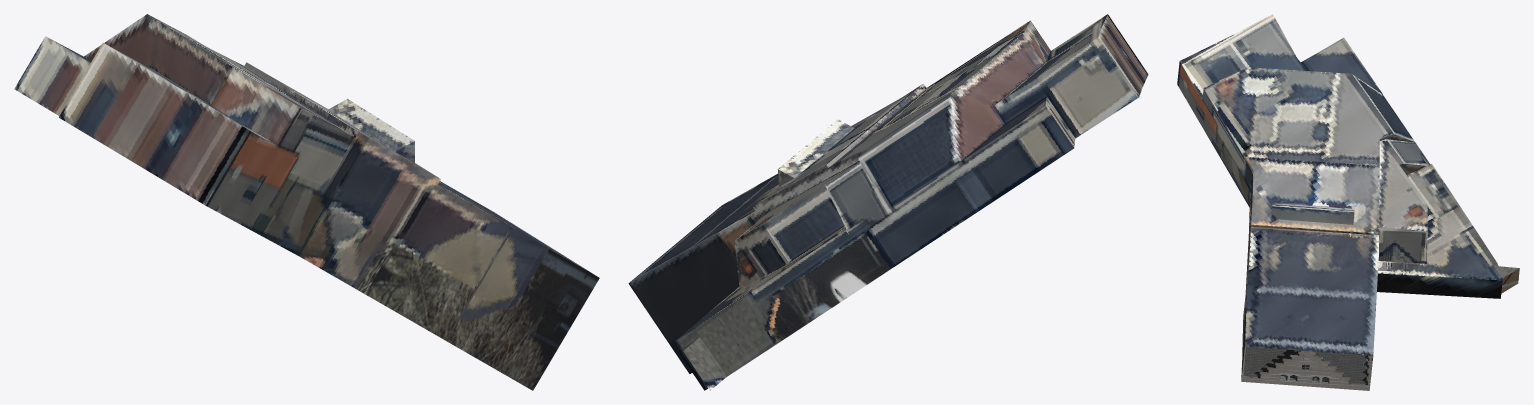
3 views of the same model, side by side, from view 1: azimuth 30°, elevation 25°; view 2: azimuth 150°, elevation 25°; view 3: azimuth 270°, elevation 25° (orthographic). The views are drawn at different scales.
Parts seen in each view (by area): view 1: BAG_0599100010058326 (×6); view 2: BAG_0599100010058326 (×6); view 3: BAG_0599100010058326 (×6).
Part boxes in pixels (x1=…): BAG_0599100010058326 (×6): x1=14, y1=14, x2=599, y2=390; BAG_0599100010058326 (×6): x1=628, y1=14, x2=1148, y2=390; BAG_0599100010058326 (×6): x1=1177, y1=14, x2=1519, y2=390.
Bounding box in the file's own units: 31.31 × 25.28 × 30.17.
Materials: 7 (7 with a texture image).
